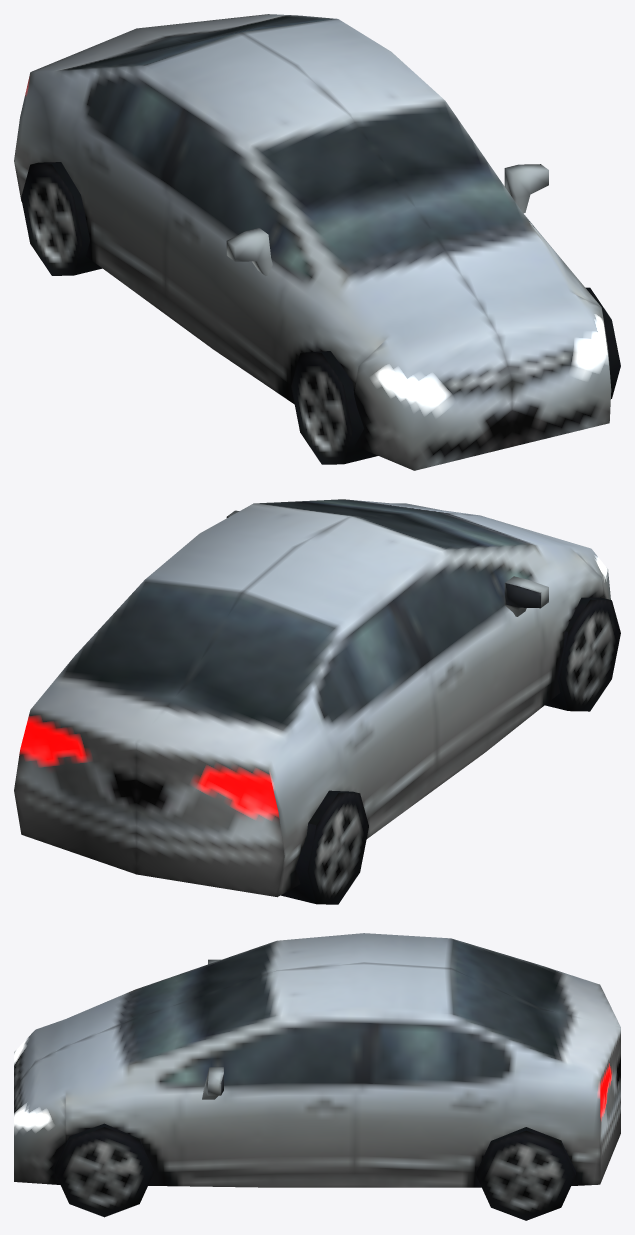
Rendered from Civic.fbx.
3 renders of one model, top to bottom at view 1: azimuth 30°, elevation 25°; view 2: azimuth 150°, elevation 25°; view 3: azimuth 270°, elevation 25°, orthographic. The views are drawn at different scales.
Parts seen in each view (by area): view 1: car; view 2: car; view 3: car.
Part boxes in pixels (<box>): car: <box>14,14,620,470</box>; car: <box>14,499,620,904</box>; car: <box>14,933,620,1220</box>.
Size of the model in its own units: 315 by 239 by 653.
Materials: 1 (1 with a texture image).
